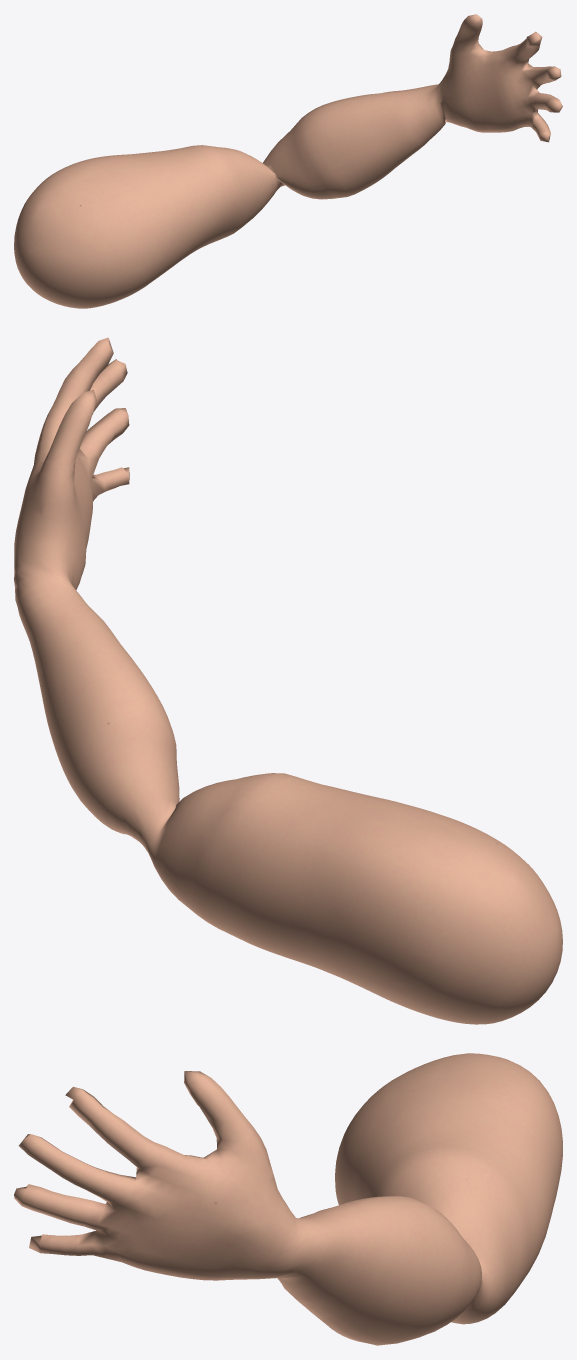
The model's file is handunity311111 1.fbx.
The picture shows the model from 3 angles, top to bottom: view 1: azimuth 30°, elevation 25°; view 2: azimuth 150°, elevation 25°; view 3: azimuth 270°, elevation 25°; orthographic projection. The views are drawn at different scales.
Visible parts, largest first — view 1: ac; view 2: ac; view 3: ac.
Boxes of the visible parts, box(x1,y1,x2,y2) form: ac: box(14, 14, 562, 308); ac: box(14, 337, 562, 1024); ac: box(14, 1053, 562, 1345).
Size of the model in its own units: 115 by 69.66 by 79.21.
1 material, 1 textured.
